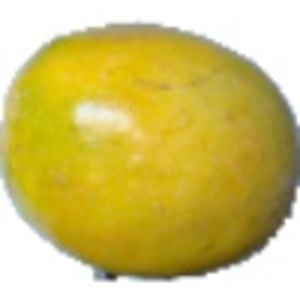maracujá: (1, 23, 300, 283)
